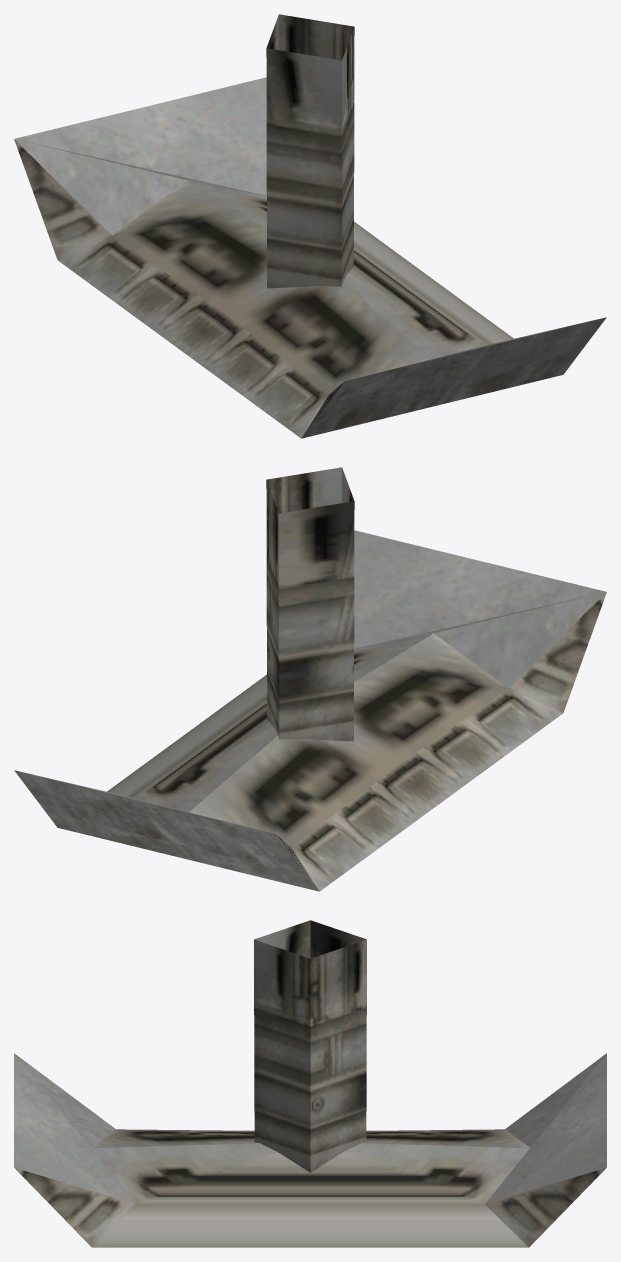
The model's file is transport_strut_b_l3.fbx.
3 renders of one model, top to bottom at view 1: azimuth 30°, elevation 25°; view 2: azimuth 150°, elevation 25°; view 3: azimuth 270°, elevation 25°, orthographic. The views are drawn at different scales.
Parts seen in each view (by area): view 1: mesh_node; view 2: mesh_node; view 3: mesh_node.
Boxes of the visible parts, bbox=[...] form: mesh_node: bbox=[14, 14, 606, 438]; mesh_node: bbox=[14, 467, 606, 891]; mesh_node: bbox=[14, 920, 606, 1247].
Size of the model in its own units: 1.77 by 1.81 by 3.87.
Materials: 1 (1 with a texture image).
